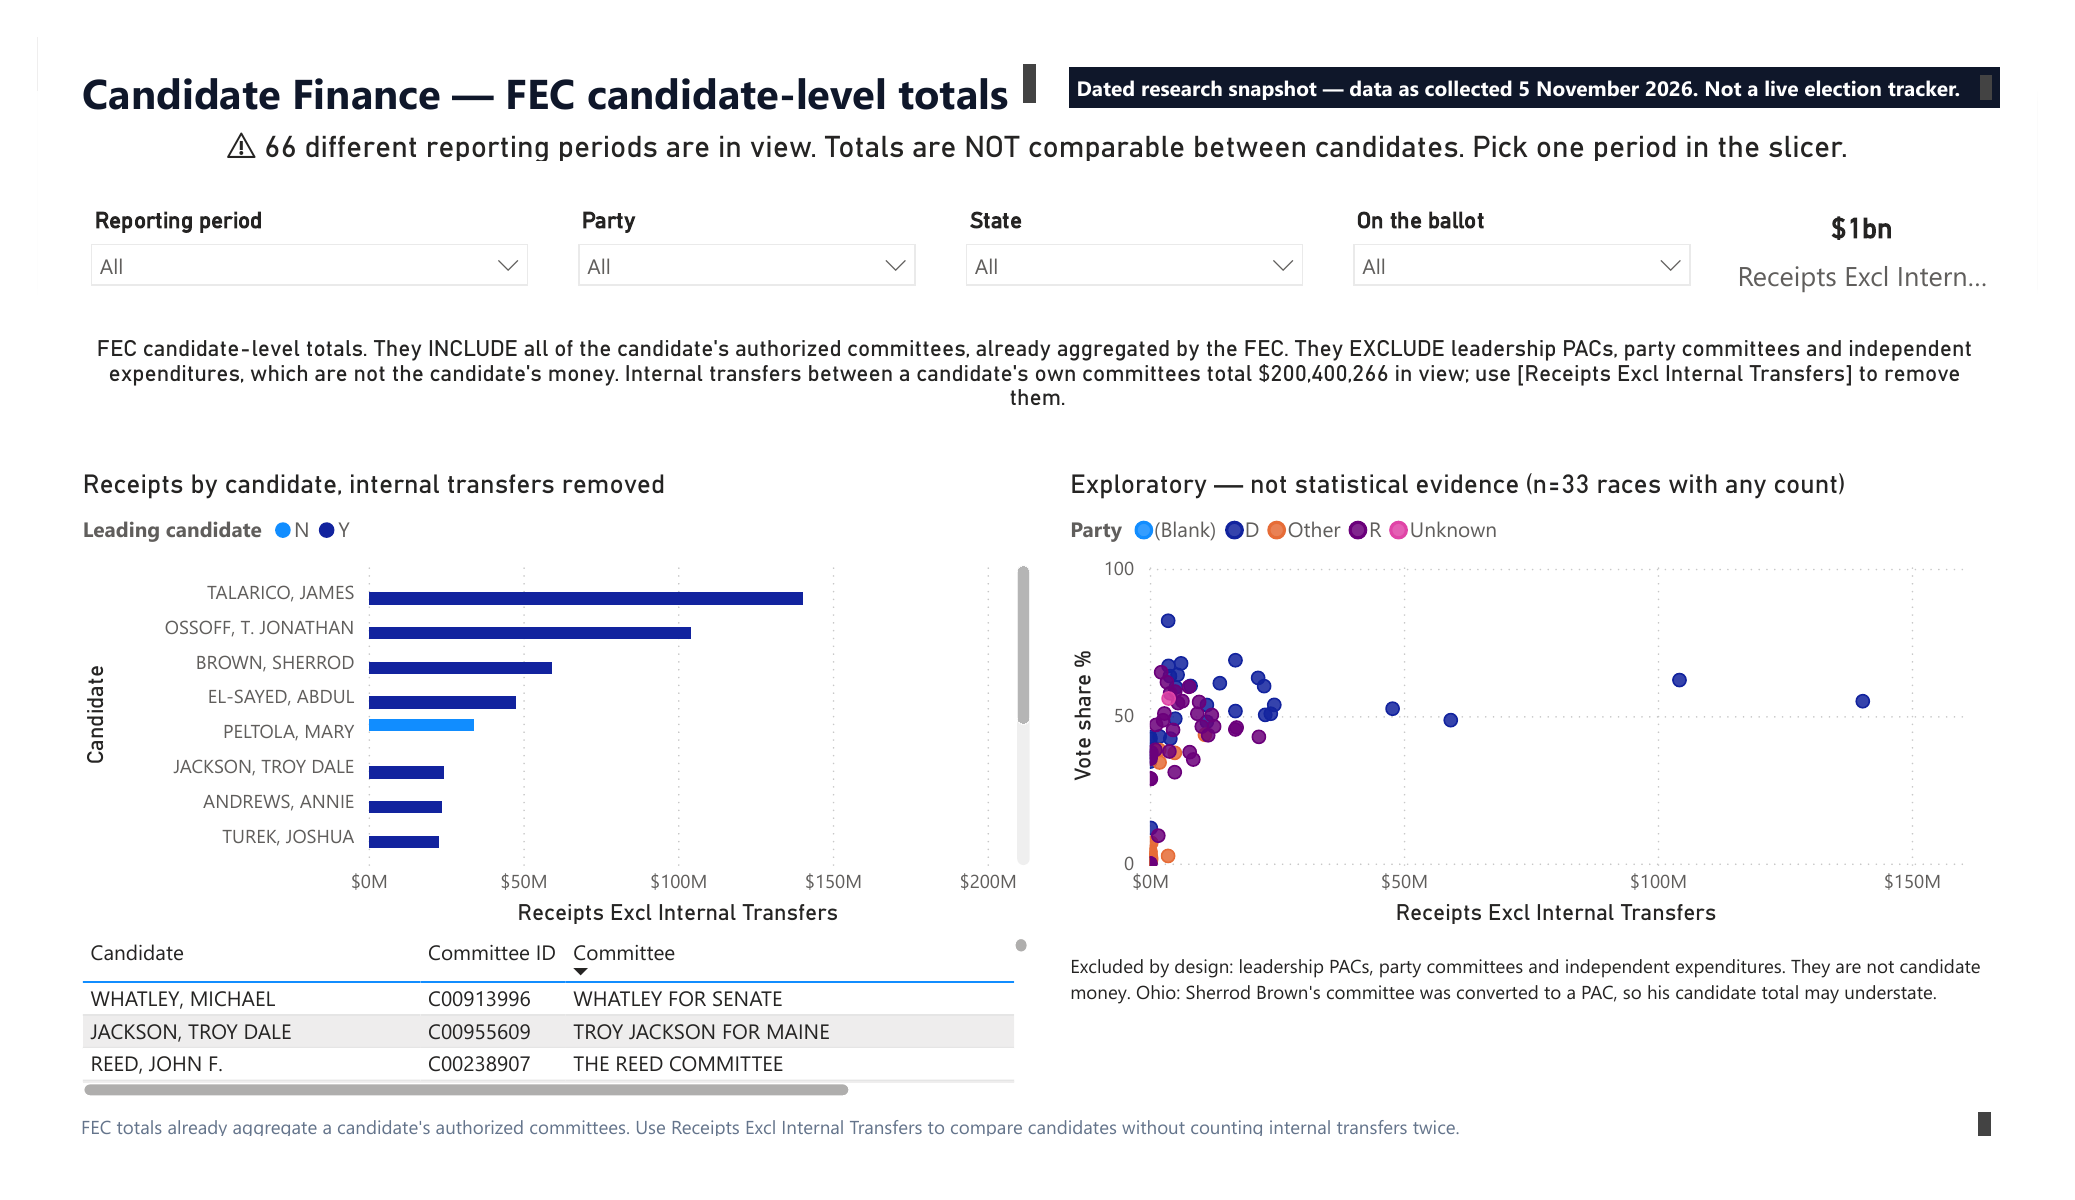

This screenshot's page, from the dashboard's own definition file:
{"tool":"powerbi","page":{"name":"Candidate Finance","canvas":[1280,720],"ordinal":3},"visuals":[{"type":"textbox","box":[24,12,620,40],"z":0},{"type":"card","fields":{"Values":["_Measures.Finance Comparability Warning"]},"box":[24.3,55.7,1231.4,28.6],"z":1000},{"type":"slicer","fields":{"Values":["FactCandidateFinance.comparability_cohort"]},"box":[24,104,300,80],"z":2000},{"type":"slicer","fields":{"Values":["DimCandidate.party_group"]},"box":[336,104,236,80],"z":3000},{"type":"slicer","fields":{"Values":["DimRace.state_postal"]},"box":[584,104,236,80],"z":4000},{"type":"slicer","fields":{"Values":["DimCandidate.on_general_ballot"]},"box":[832,104,236,80],"z":5000},{"type":"card","fields":{"Values":["_Measures.Receipts Excl Internal Transfers"]},"box":[1080,84.3,175.7,100],"z":6000},{"type":"card","fields":{"Values":["_Measures.Finance Scope Note"]},"box":[24.3,165.7,1231.4,100],"z":7000},{"type":"clusteredBarChart","title":"Receipts by candidate, internal transfers removed","fields":{"Category":["DimCandidate.candidate_name_fec"],"Series":["DimCandidate.is_leading_candidate"],"Y":["_Measures.Receipts Excl Internal Transfers"]},"box":[24,276,616,296],"z":8000},{"type":"scatterChart","title":"Exploratory — not statistical evidence (n=33 races with any count)","fields":{"Category":["DimCandidate.candidate_name_fec"],"Series":["DimCandidate.party_group"],"X":["_Measures.Receipts Excl Internal Transfers"],"Y":["_Measures.Vote Share (Candidate Context)"]},"box":[656,276,600,296],"z":9000},{"type":"tableEx","fields":{"Values":["DimCandidate.candidate_name_fec","FactCandidateFinance.fec_committee_id","FactCandidateFinance.fec_committee_name","FactCandidateFinance.other_authorized_committee_ids"]},"box":[22.9,571.4,615.7,111.4],"z":10000},{"type":"textbox","box":[656,580,600,70],"z":11000},{"type":"textbox","box":[22.5,682.5,1232.5,25],"z":12000},{"type":"textbox","box":[660,18.6,596,26],"z":13000}]}

Visuals, with their boxes on the page's 1280x720 design canvas (x1, y1, x2, y2). These are canvas units, not pixel positions in the 2075x1200 screenshot, which may show the page scaled, cropped or inside an application window:
textbox: locate(24, 12, 644, 52)
card - _Measures.Finance Comparability Warning: locate(24, 56, 1256, 84)
slicer - FactCandidateFinance.comparability_cohort: locate(24, 104, 324, 184)
slicer - DimCandidate.party_group: locate(336, 104, 572, 184)
slicer - DimRace.state_postal: locate(584, 104, 820, 184)
slicer - DimCandidate.on_general_ballot: locate(832, 104, 1068, 184)
card - _Measures.Receipts Excl Internal Transfers: locate(1080, 84, 1256, 184)
card - _Measures.Finance Scope Note: locate(24, 166, 1256, 266)
"Receipts by candidate, internal transfers removed" clusteredBarChart: locate(24, 276, 640, 572)
"Exploratory — not statistical evidence (n=33 races with any count)" scatterChart: locate(656, 276, 1256, 572)
tableEx - DimCandidate.candidate_name_fec x FactCandidateFinance.fec_committee_id: locate(23, 571, 639, 683)
textbox: locate(656, 580, 1256, 650)
textbox: locate(22, 682, 1255, 708)
textbox: locate(660, 19, 1256, 45)
